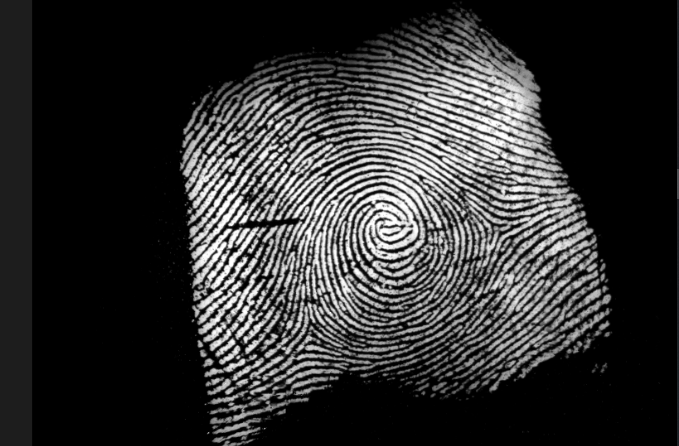deltas: (470, 202, 517, 251), (287, 310, 336, 354)
nucleo: (369, 208, 411, 251)
